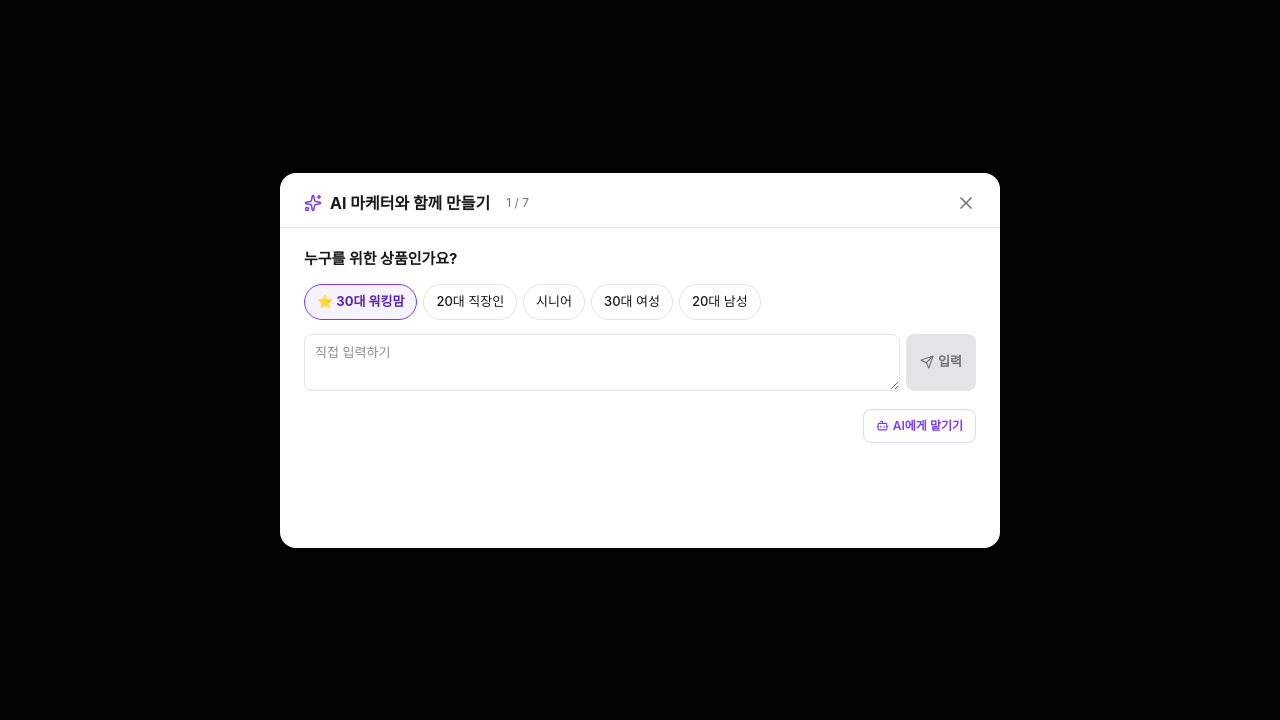
it: ConversationalDetailModal › 이전 질문으로 돌아갈 수 있다 (첫 질문 이후)
The image size is (1280, 720).
Expected: the heading "누구를 위한 상품인가요?" is shown, [304, 248, 458, 268]
Step 1. Click the button "⭐ 30대 워킹맘" → (361, 302), box [304, 284, 417, 320]
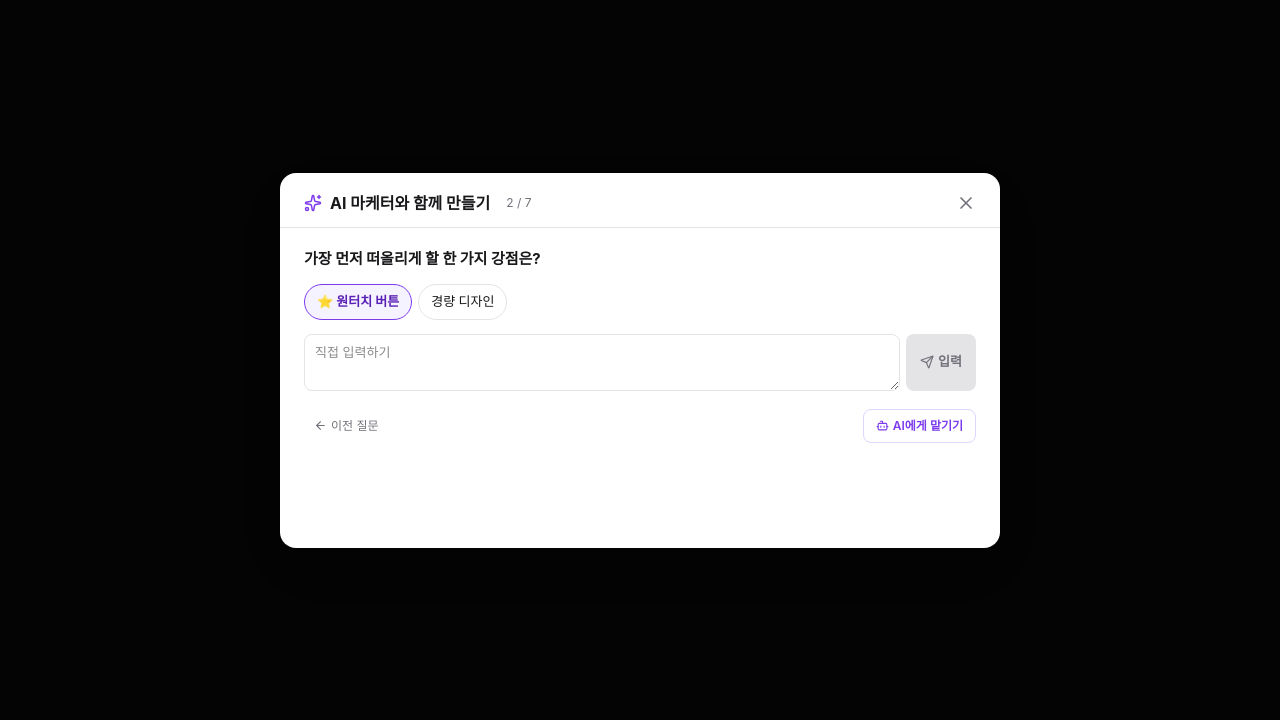
Result: the heading "가장 먼저 떠올리게 할 한 가지 강점은?" is shown at [304, 248, 541, 268]
Step 2. Click the button "이전 질문" → (346, 426), box [304, 410, 388, 442]
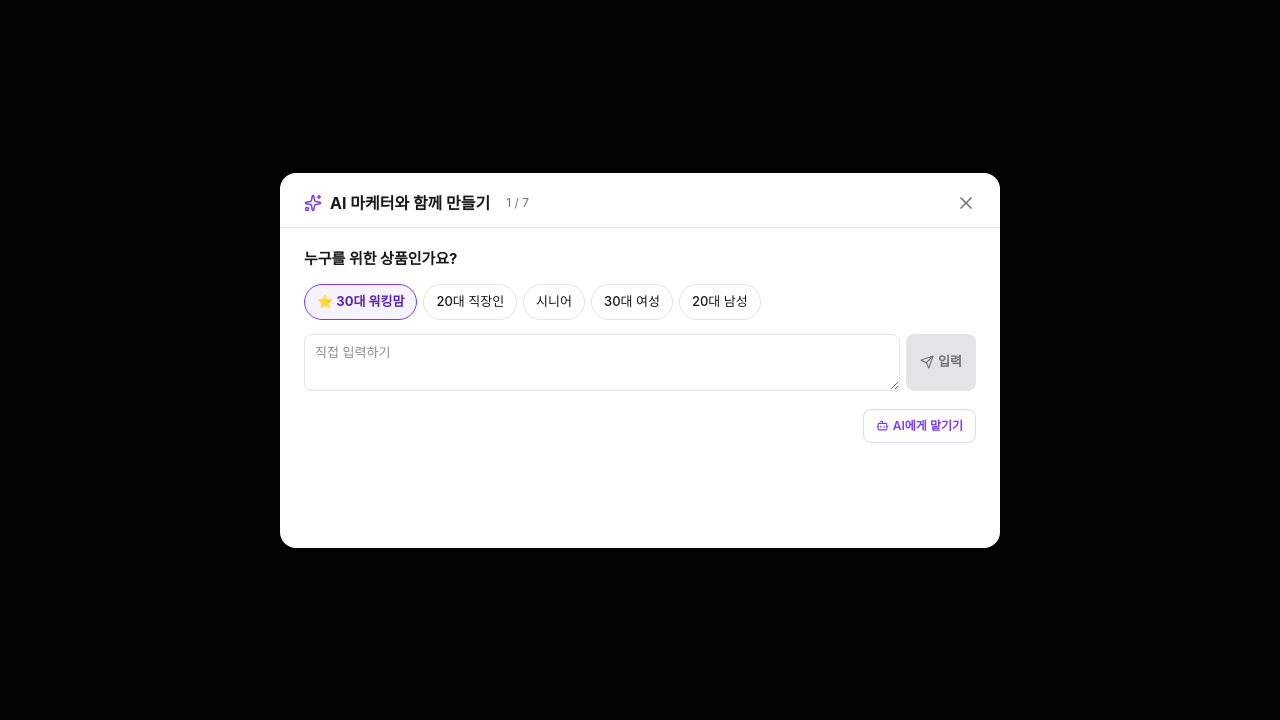
Result: the heading "누구를 위한 상품인가요?" is shown at [304, 248, 458, 268]
